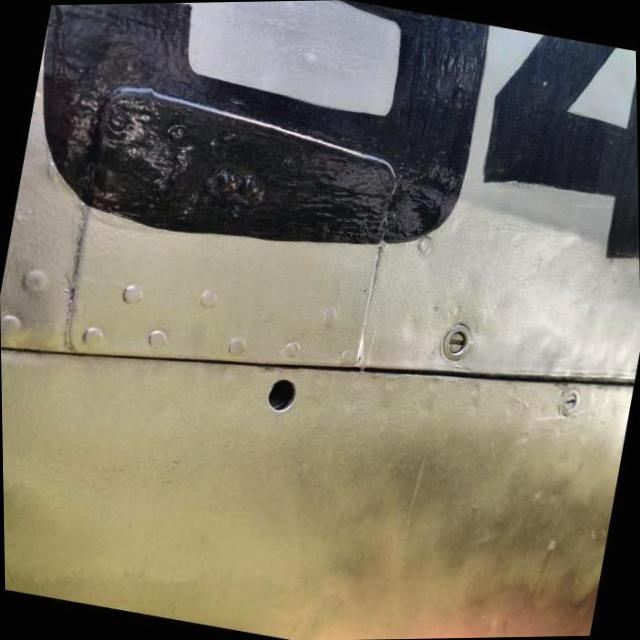Missing Fastener: (266, 379, 294, 410)
